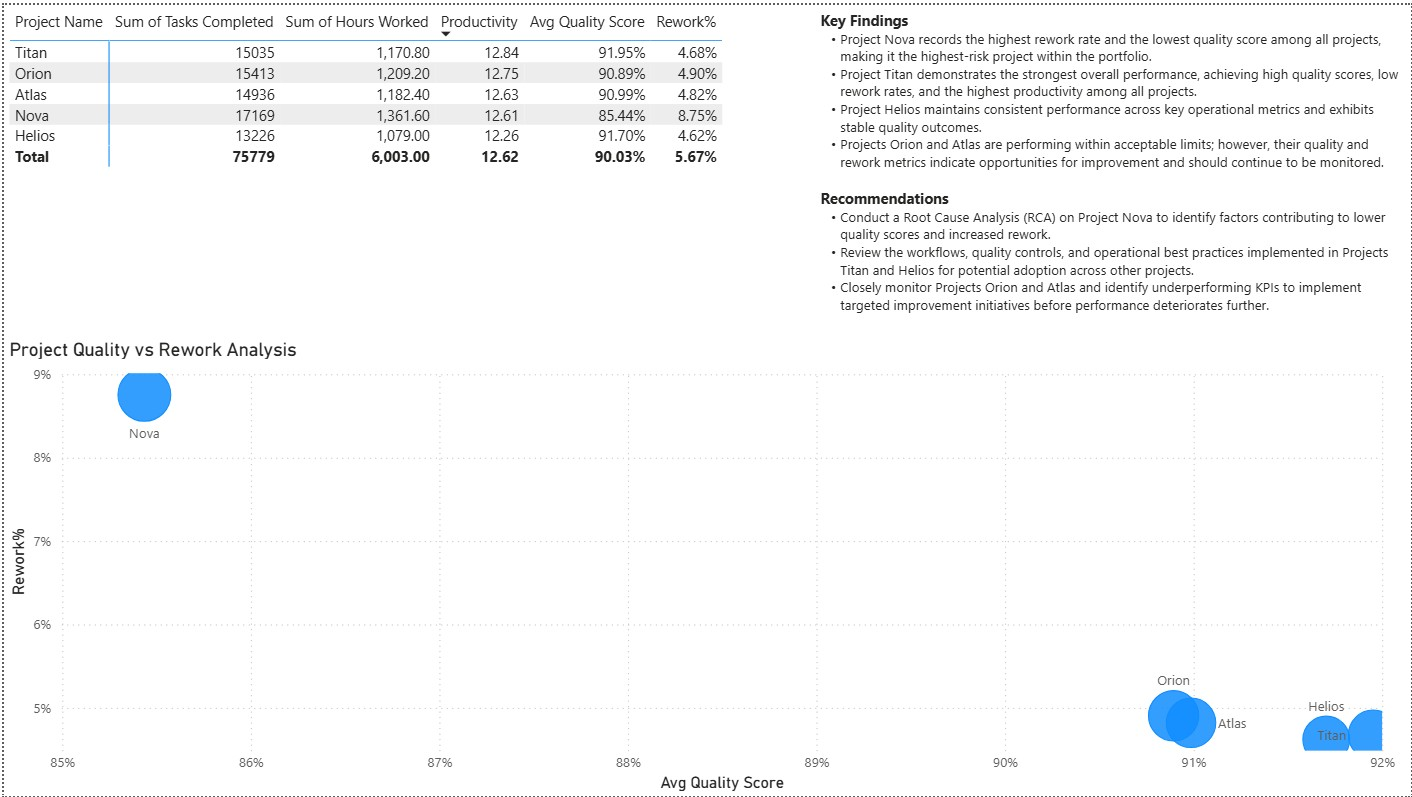

What the dashboard file says about the page in this screenshot:
{"tool":"powerbi","page":{"name":"Project Health Analysis","canvas":[1280,720],"ordinal":2},"visuals":[{"type":"pivotTable","fields":{"Rows":["Dim_Project.Project Name"],"Values":["Sum(Fact_Performance.Tasks Completed)","Sum(Fact_Performance.Hours Worked)","Fact_Performance.Productivity","Fact_Performance.Avg Quality Score","Fact_Performance.Rework%"]},"box":[0,0,737.4,279.6],"z":0},{"type":"scatterChart","title":"Project Quality vs Rework Analysis","fields":{"X":["Fact_Performance.Avg Quality Score"],"Y":["Fact_Performance.Rework%"],"Category":["Dim_Project.Project Name"],"Size":["Fact_Performance.Total Tasks Completed"]},"box":[0,302.7,1269.8,417.1],"z":1},{"type":"textbox","box":[737.4,0,542.6,302.7],"z":2}]}

Visuals, with their boxes in screenshot pixels (x1, y1, x2, y2), scaled from the page's 1280x720 canvas onto the 1412x797 screenshot:
pivotTable - Dim_Project.Project Name x Sum(Fact_Performance.Tasks Completed): rect(0, 0, 813, 310)
"Project Quality vs Rework Analysis" scatterChart: rect(0, 335, 1401, 796)
textbox: rect(813, 0, 1411, 335)
